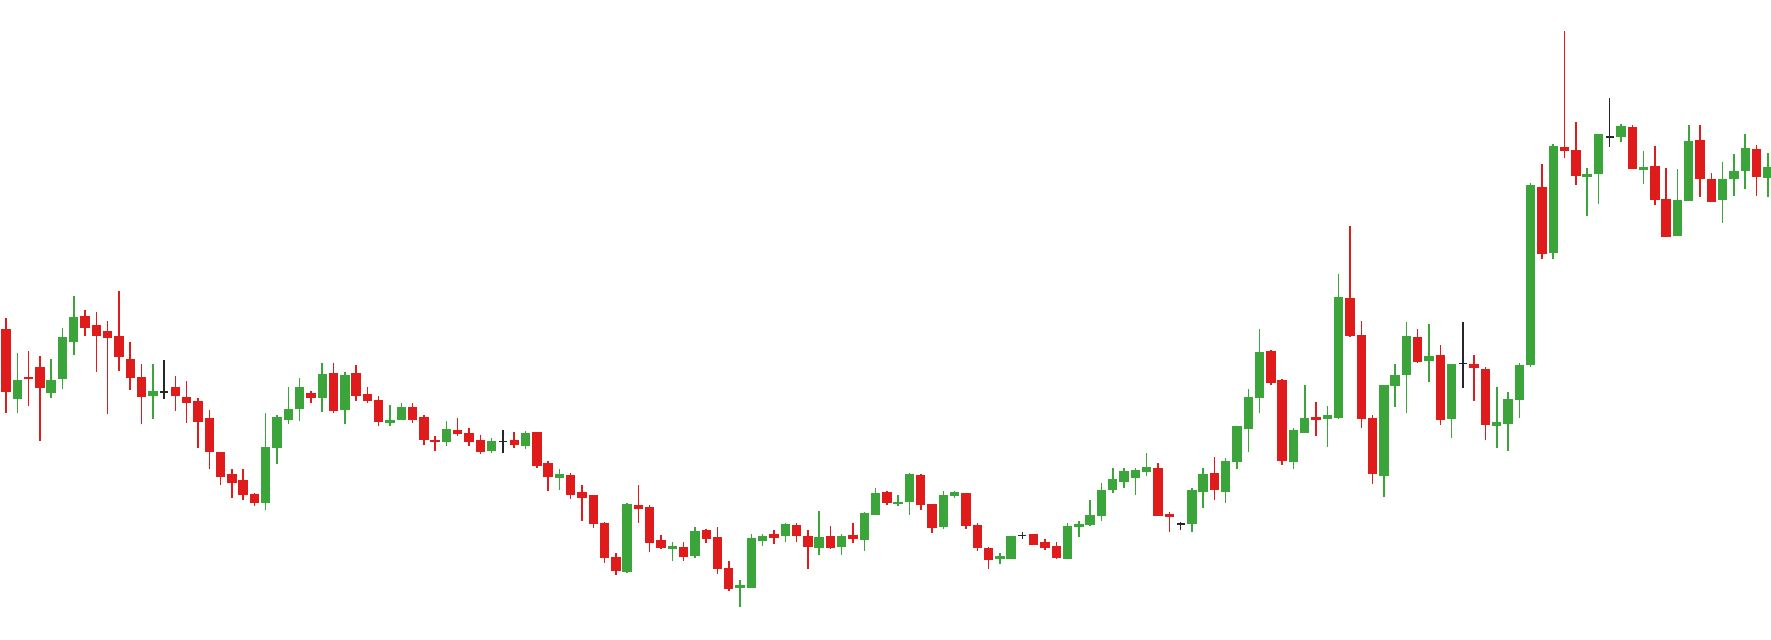buy: (611, 517, 757, 613), (1288, 371, 1392, 499), (1446, 351, 1513, 457)
